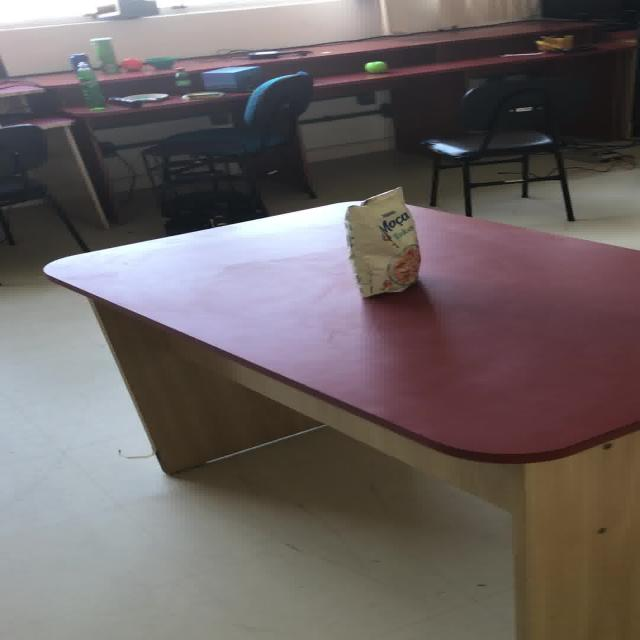corn flakes: (342, 186, 421, 297)
